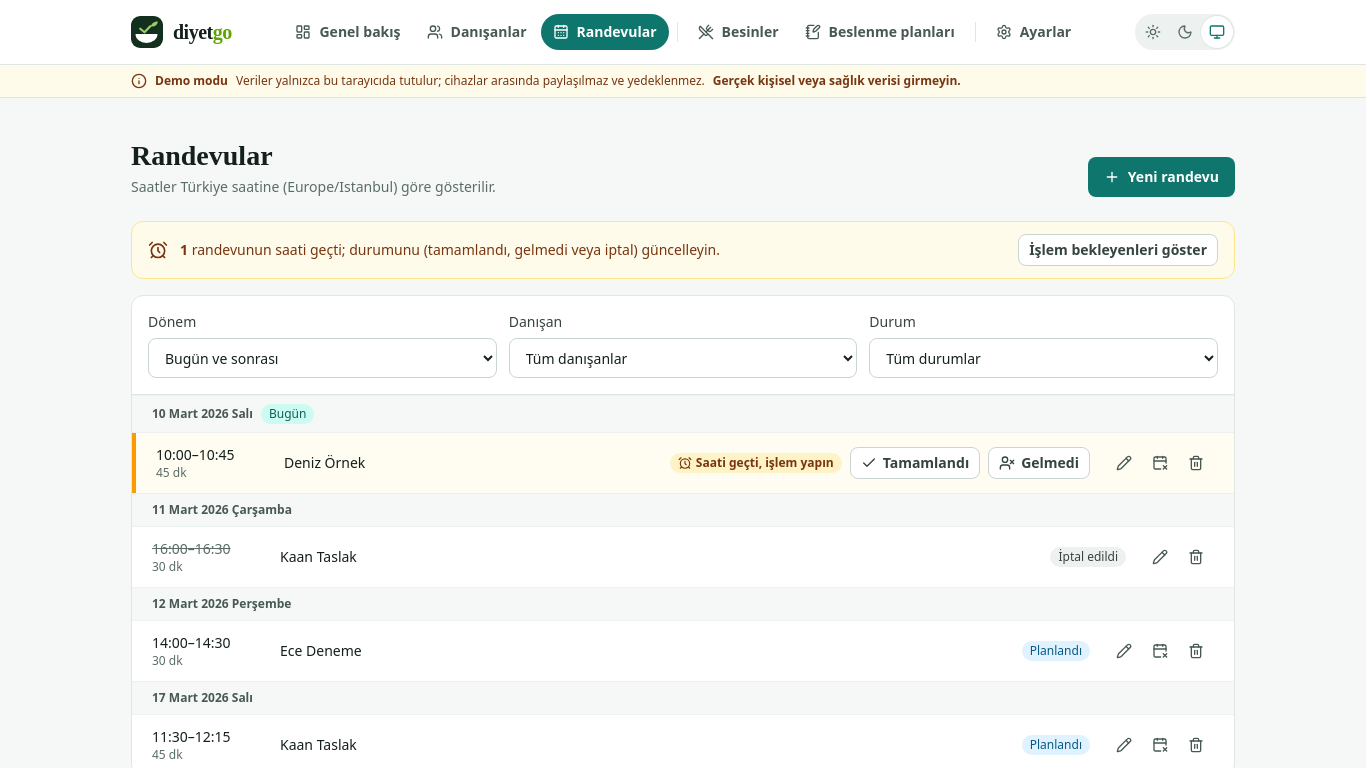
Test case: Randevu düzenleme, iptal ve silme › iptal kaydı korur ve saati boşaltır; silme kaydı kaldırır
Expected: the element "10 Mart 2026 Salı" is shown, [132,395,1234,493]
Click the button named "10 Mar 10:00 randevusunu iptal et": point(1160, 463) [1142,447,1178,479]
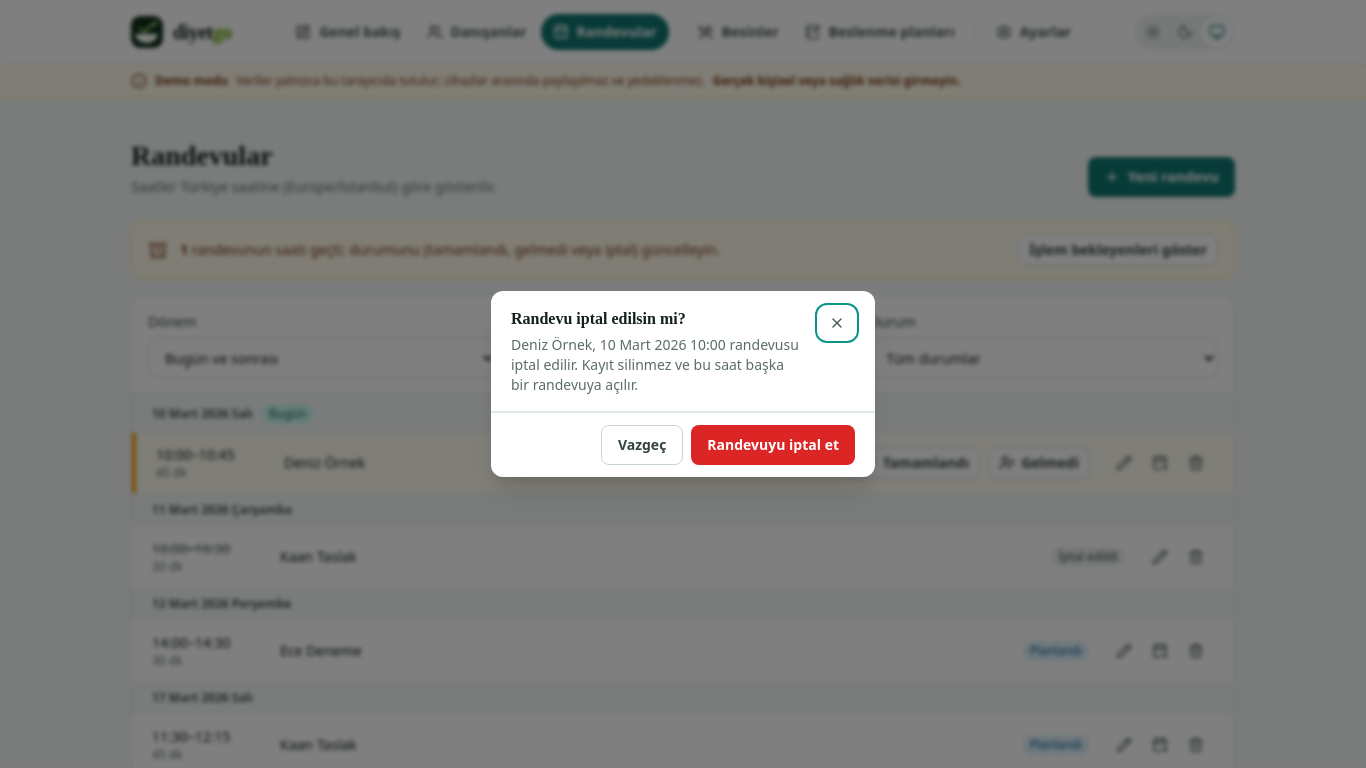
Expected: the text "Deniz Örnek, " is shown, [511,335,799,394]
Click the button "Randevuyu iptal et": point(773, 445) [691,425,855,465]
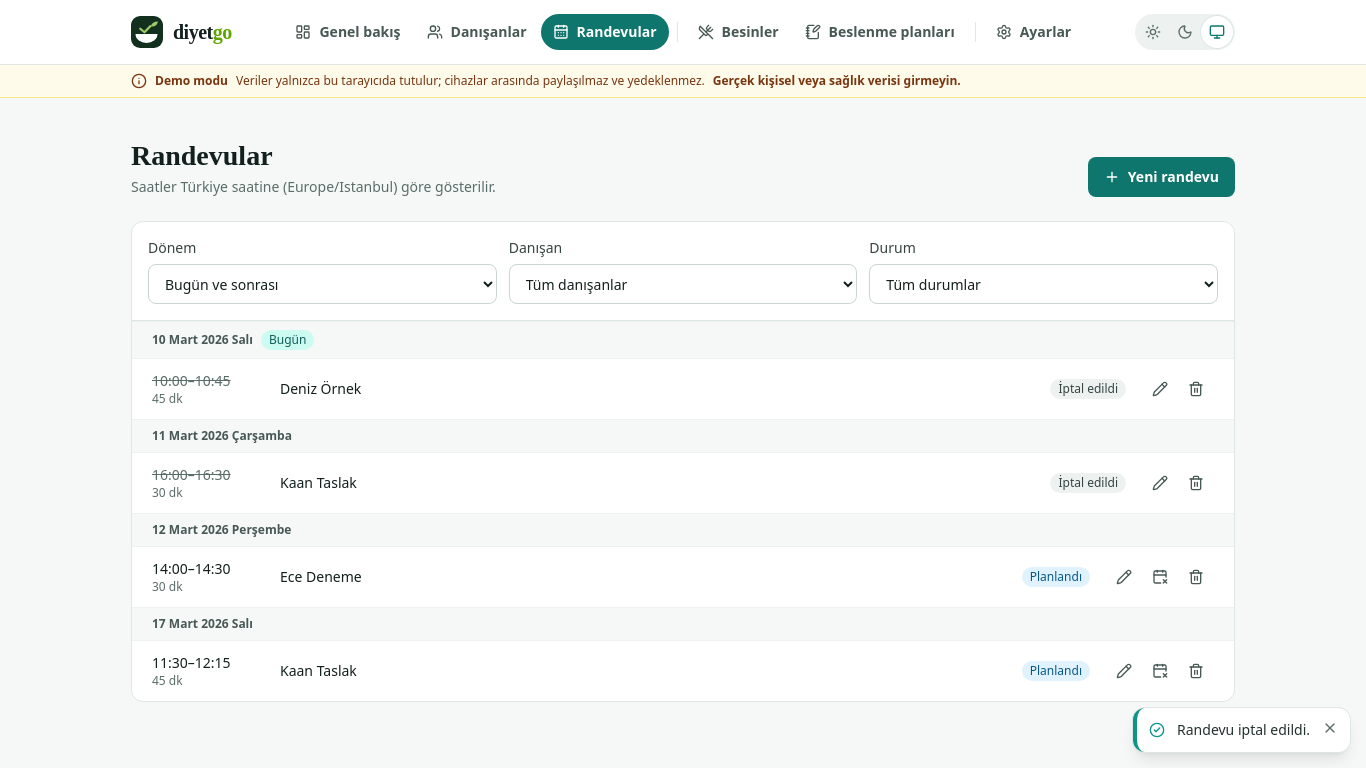
Expected: the text "Randevu iptal edildi." is shown, [1177,720,1310,740]
Click the button named "10 Mar 10:00 randevusunu sil": point(1196, 389) [1178,373,1214,405]
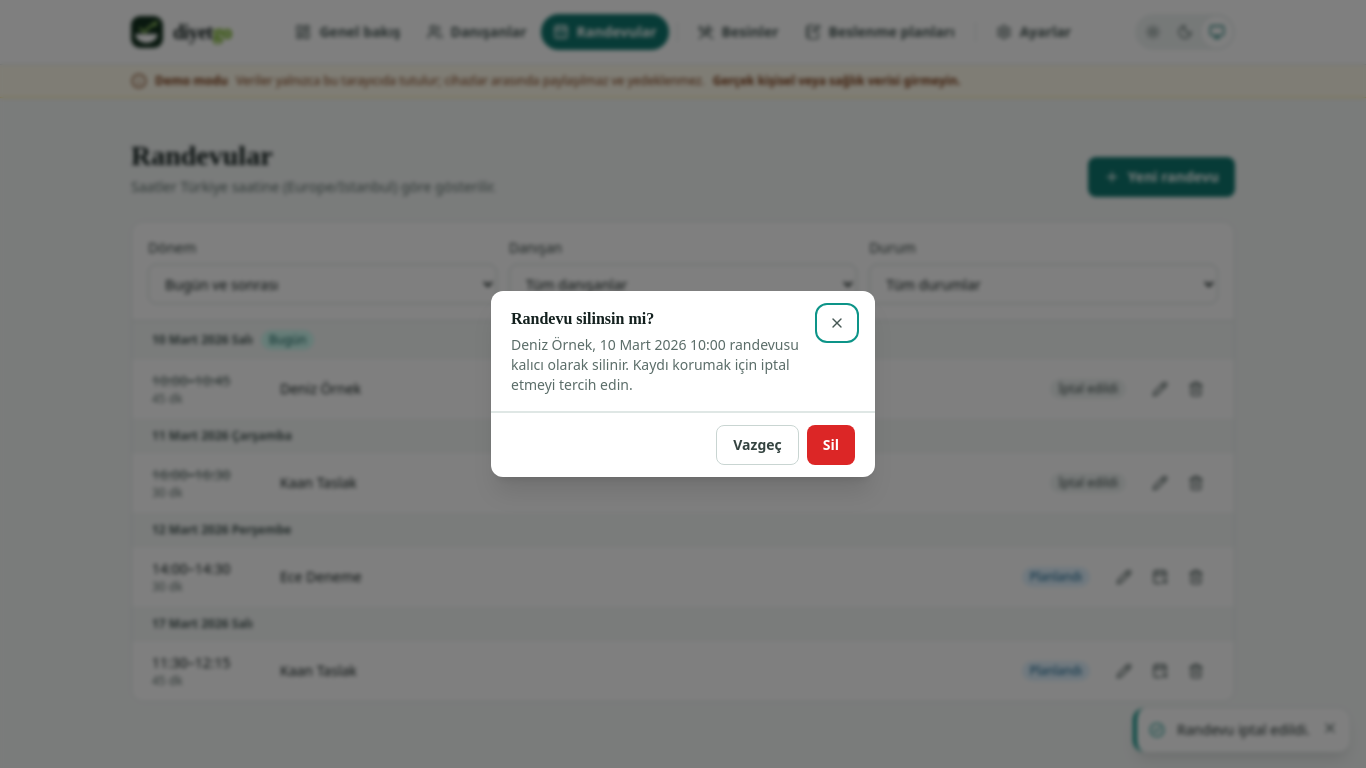
Click the button "Sil": point(831, 445) [807,425,855,465]
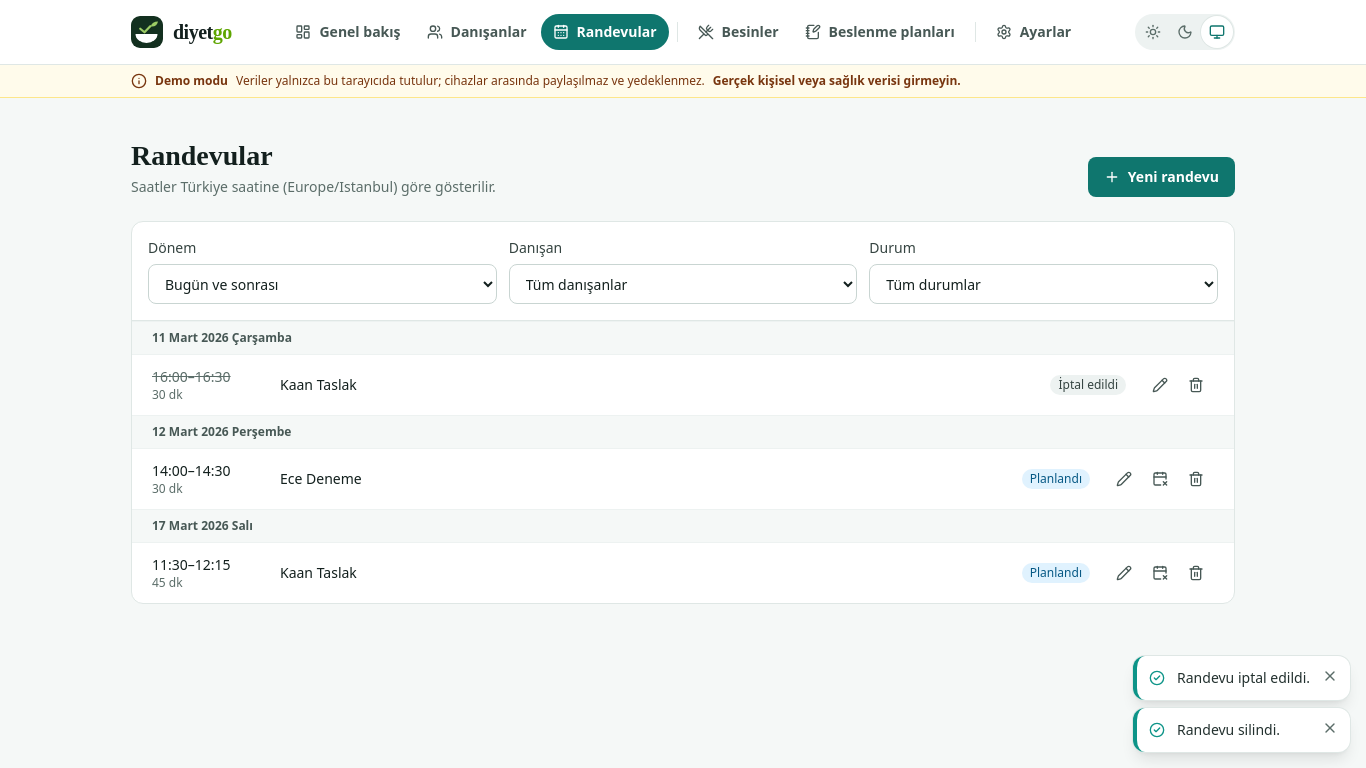
Expected: the text "Randevu silindi." is shown, [1177,720,1280,739]
Expected: the heading "10 Mart 2026 Salı Bugün" no longer shows "10 Mart 2026 Salı"
